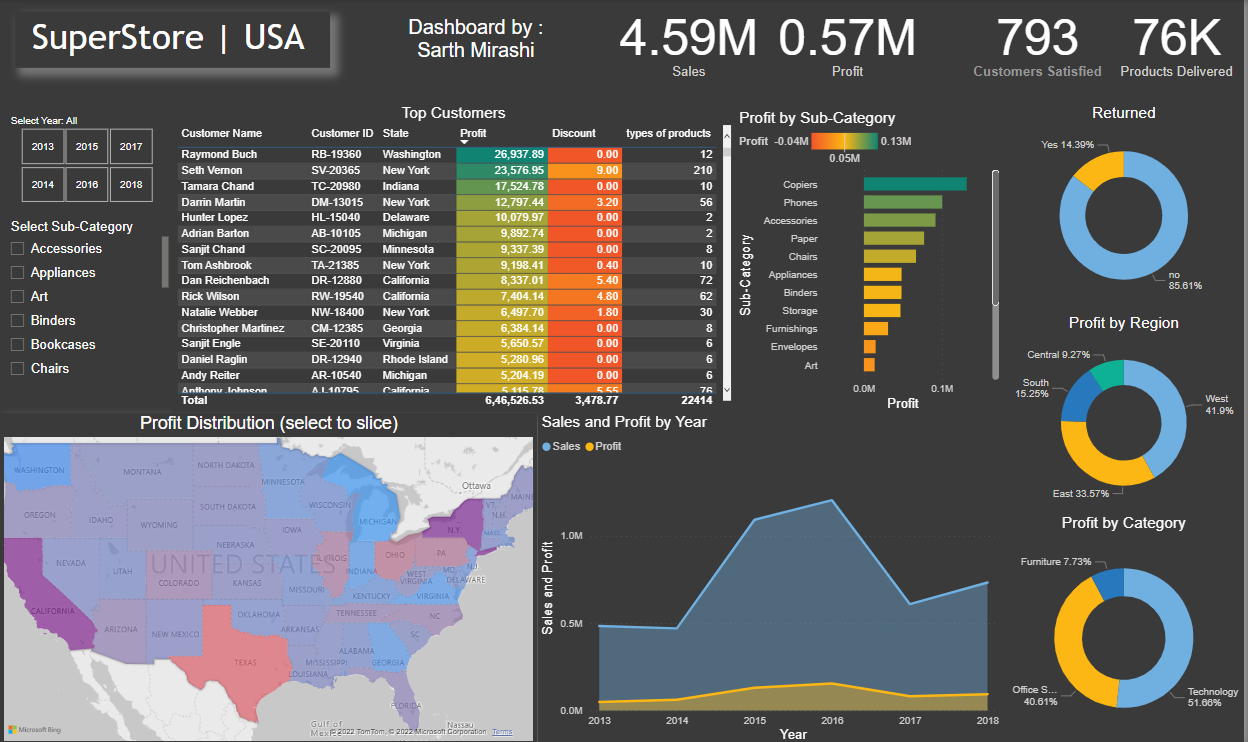

The page's visual inventory and layout, read from the dashboard file:
{"tool":"powerbi","page":{"name":"Page 1","canvas":[1500,900],"ordinal":0},"visuals":[{"type":"donutChart","title":"Returned","fields":{"Y":["Merge1.Order ID"],"Series":["Merge1.Returned"]},"box":[1210,126.7,290,248.3],"z":0},{"type":"card","fields":{"Values":["Append1.Sales"]},"box":[731.5,0,199.8,99.9],"z":1},{"type":"filledMap","title":"Profit Distribution (select to slice)","fields":{"Category":["Merge1.State"]},"box":[0,498.3,648.3,401.7],"z":2},{"type":"donutChart","fields":{"Y":["Merge1.Profit"],"Category":["Merge1.Region"]},"box":[1210,380,290,241.7],"z":5},{"type":"areaChart","fields":{"Y":["Append1.Sales","Append1.Profit"],"Category":["Append1.Order Date.Variation.Date Hierarchy.Year","Append1.Order Date.Variation.Date Hierarchy.Quarter"]},"box":[648.3,498.3,561.7,401.7],"z":6},{"type":"donutChart","fields":{"Y":["Merge1.Profit"],"Category":["Append1.Category"]},"box":[1210,621.7,290,278.3],"z":7},{"type":"slicer","fields":{"Values":["Append1.Order Date.Variation.Date Hierarchy.Year"]},"box":[0,133.7,207.8,117.6],"z":8},{"type":"card","fields":{"Values":["Append1.Customer ID"]},"box":[1163.3,0,175.6,99.9],"z":9},{"type":"card","fields":{"Values":["Append1.Quantity"]},"box":[1338.9,0,161.1,99.9],"z":10},{"type":"textbox","box":[18.3,15,380,68.3],"z":11},{"type":"card","fields":{"Values":["Append1.Profit"]},"box":[918.3,0,208.3,100],"z":12},{"type":"slicer","fields":{"Values":["Append1.Sub-Category"]},"box":[0,261,207.8,206.2],"z":13},{"type":"textbox","box":[430,0,288.3,91.7],"z":14},{"type":"tableEx","title":"Top Customers","fields":{"Values":["Merge1.Customer Name","Merge1.Customer ID","Merge1.State","Merge1.Profit","Merge1.Discount","Merge1.Product Name"]},"box":[208.3,126.7,678.3,371.7],"z":15},{"type":"barChart","fields":{"Category":["Merge1.Sub-Category"],"Y":["Merge1.Profit"]},"box":[886.7,133.3,323.3,368.3],"z":16}]}

Visuals, with their boxes in screenshot pixels (x1, y1, x2, y2), scaled from the page's 1500x900 canvas onto the 1248x742 screenshot:
"Returned" donutChart: (left=1007, top=104, right=1247, bottom=309)
card - Append1.Sales: (left=609, top=0, right=775, bottom=82)
"Profit Distribution (select to slice)" filledMap: (left=0, top=411, right=539, bottom=741)
donutChart - Merge1.Profit x Merge1.Region: (left=1007, top=313, right=1247, bottom=513)
areaChart - Append1.Sales x Append1.Profit: (left=539, top=411, right=1007, bottom=741)
donutChart - Merge1.Profit x Append1.Category: (left=1007, top=513, right=1247, bottom=741)
slicer - Append1.Order Date.Variation.Date Hierarchy.Year: (left=0, top=110, right=173, bottom=207)
card - Append1.Customer ID: (left=968, top=0, right=1114, bottom=82)
card - Append1.Quantity: (left=1114, top=0, right=1247, bottom=82)
textbox: (left=15, top=12, right=331, bottom=69)
card - Append1.Profit: (left=764, top=0, right=937, bottom=82)
slicer - Append1.Sub-Category: (left=0, top=215, right=173, bottom=385)
textbox: (left=358, top=0, right=598, bottom=76)
"Top Customers" tableEx: (left=173, top=104, right=738, bottom=411)
barChart - Merge1.Sub-Category x Merge1.Profit: (left=738, top=110, right=1007, bottom=414)
